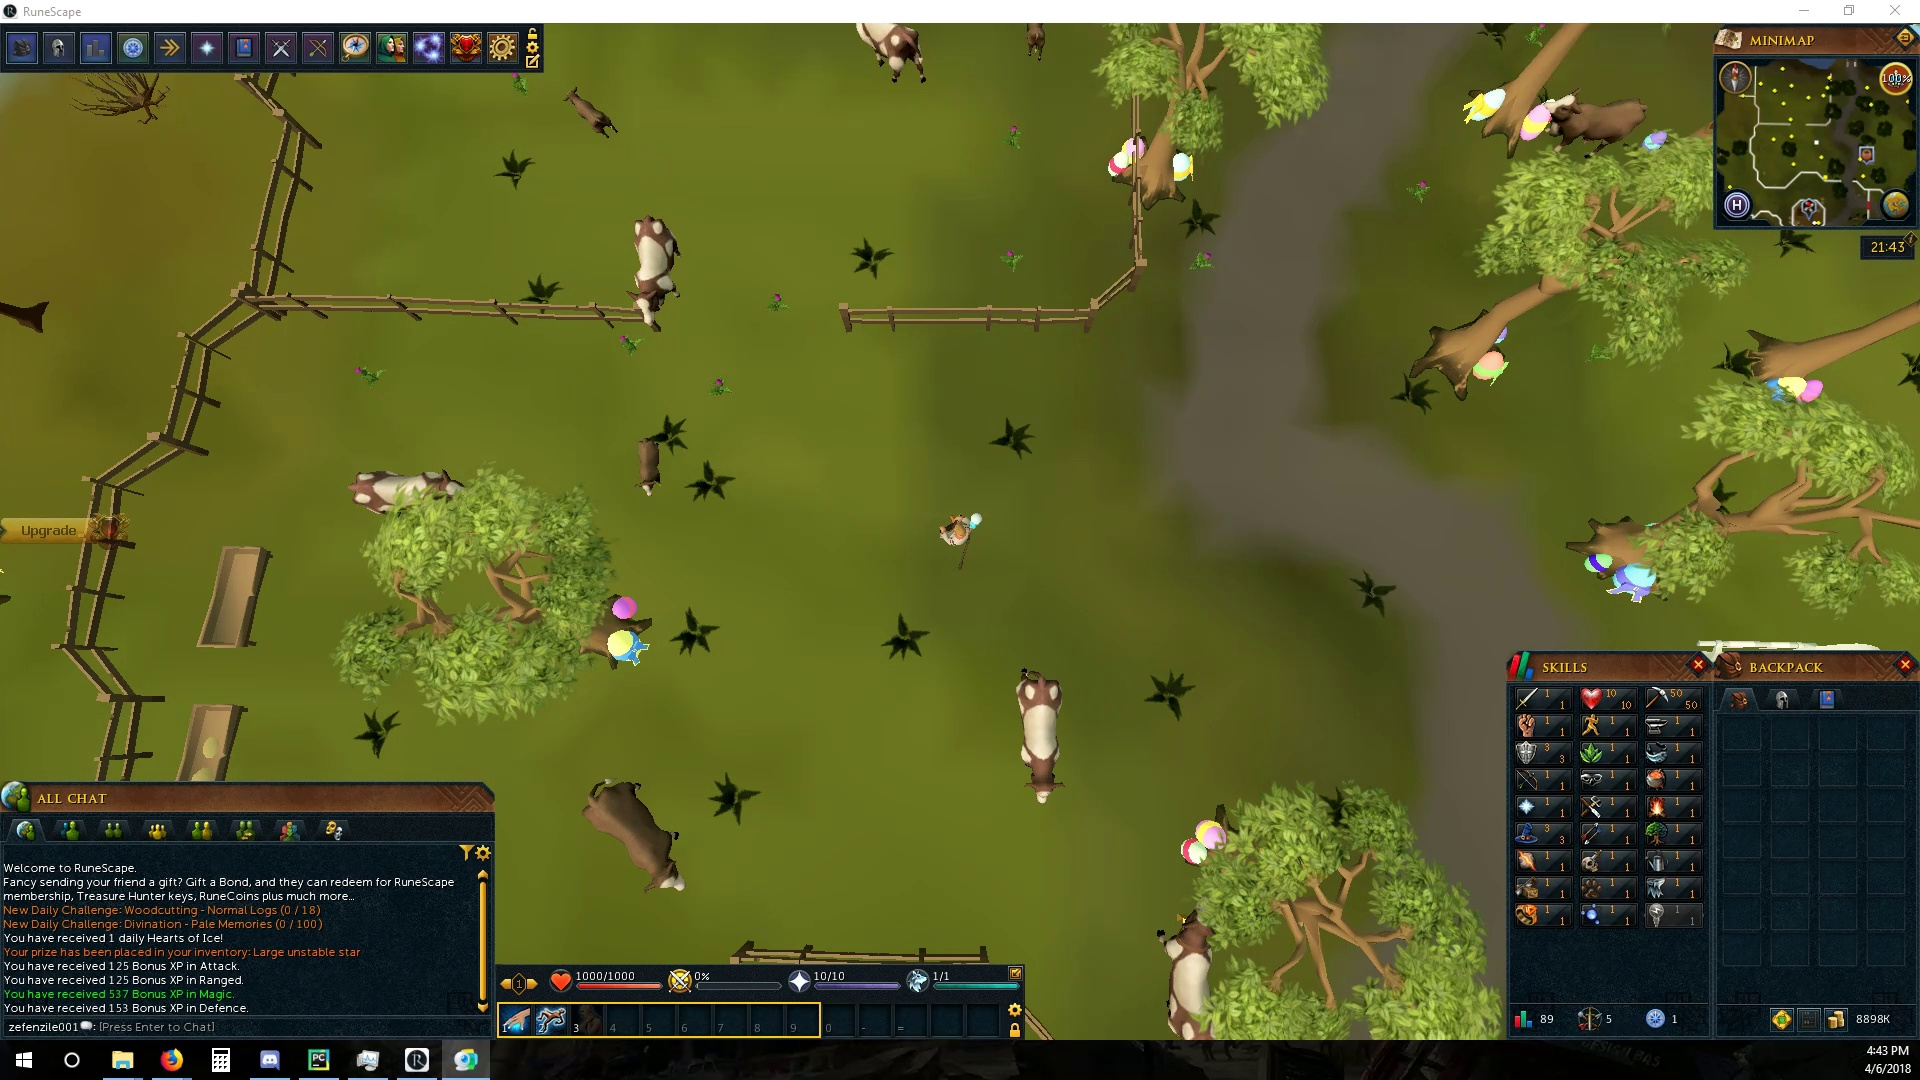calf: (564, 87, 622, 138), (633, 434, 665, 495), (1023, 21, 1048, 65)
cow: (575, 775, 690, 897), (1147, 905, 1236, 1040), (1540, 87, 1652, 164), (1011, 669, 1069, 807), (626, 210, 686, 336), (347, 464, 473, 522)
